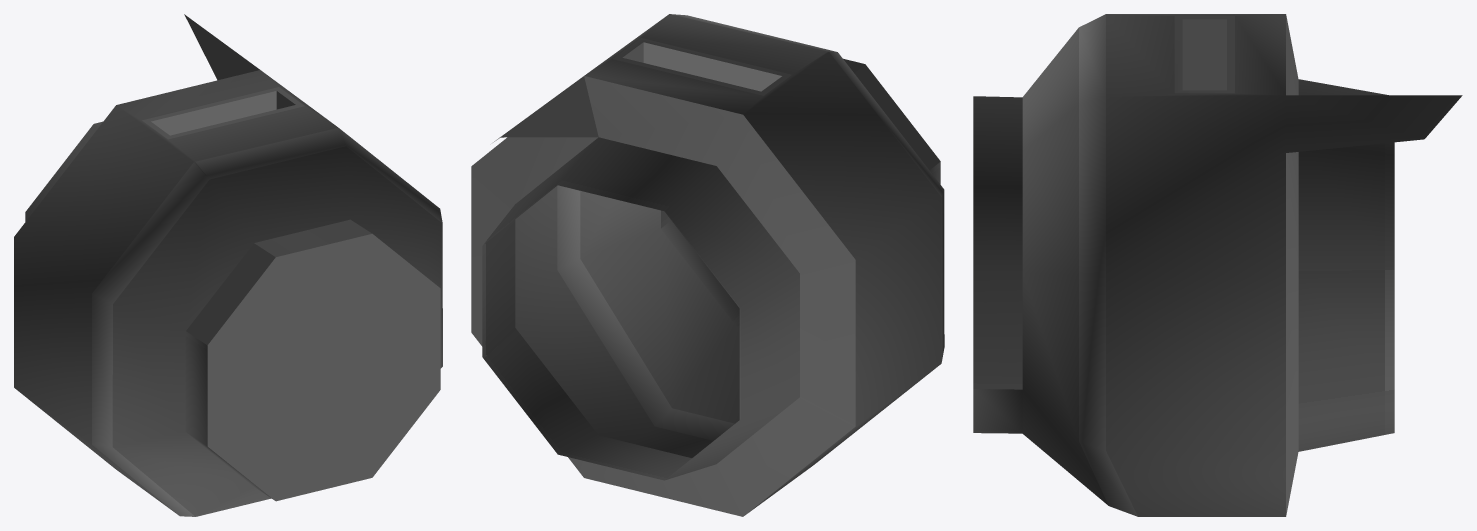
File: stat_hangar3.glb
3 views of the same model, side by side, from view 1: azimuth 30°, elevation 25°; view 2: azimuth 150°, elevation 25°; view 3: azimuth 270°, elevation 25° (orthographic). The views are drawn at different scales.
Parts seen in each view (by area): view 1: group_19; view 2: group_19; view 3: group_19.
Boxes of the visible parts, x1,y1,x2,y2 form: group_19: (14, 14, 442, 516); group_19: (471, 14, 944, 516); group_19: (973, 14, 1462, 516).
Bounding box in the file's own units: 11300 × 11301 × 11890.
Materials: 2 (2 with a texture image).
